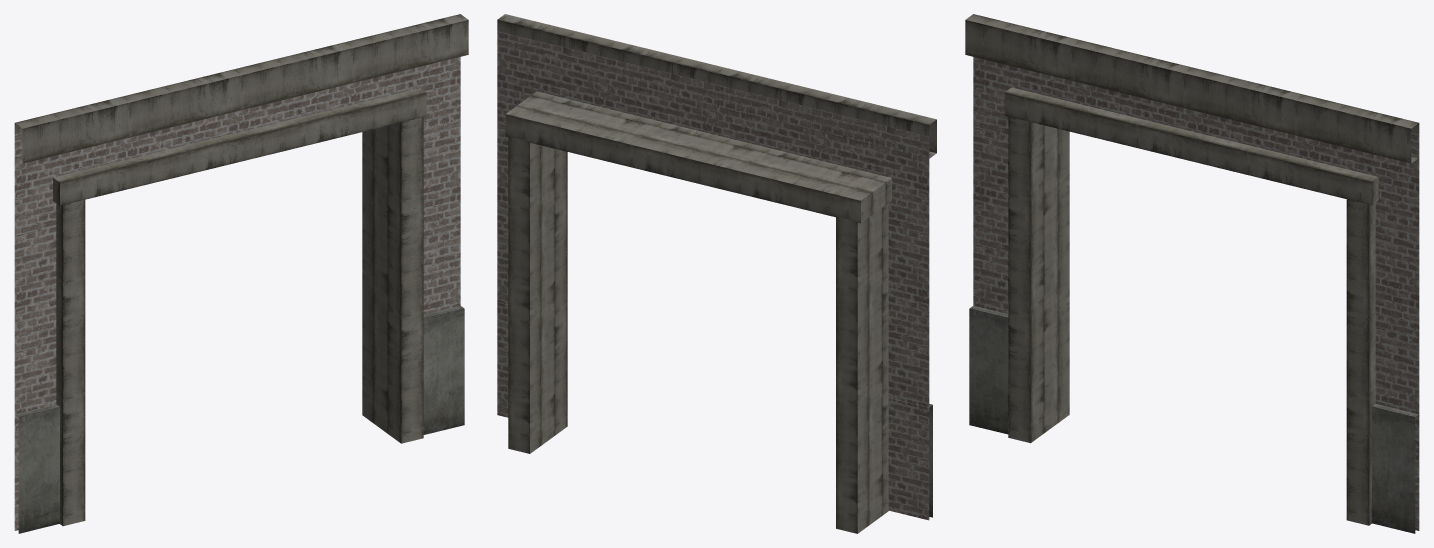
The model's file is W_B_DoorOpen_4x.FBX.
3 views of the same model, side by side, from view 1: azimuth 30°, elevation 25°; view 2: azimuth 150°, elevation 25°; view 3: azimuth 330°, elevation 25° (orthographic). The views are drawn at different scales.
Visible parts, largest first — view 1: W_B_DoorOpen_4x; view 2: W_B_DoorOpen_4x; view 3: W_B_DoorOpen_4x.
Part boxes in pixels (box(x1,y1,x2,y2)): W_B_DoorOpen_4x: box(14, 14, 468, 533); W_B_DoorOpen_4x: box(497, 14, 936, 533); W_B_DoorOpen_4x: box(965, 14, 1419, 533).
Bounding box in the file's own units: 400 × 350 × 62.56.
